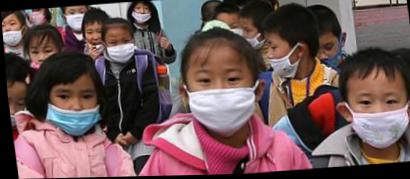OK: (184, 62, 259, 141), (347, 85, 409, 153), (106, 32, 137, 62), (66, 6, 90, 31)
WRONG: (48, 78, 102, 139), (264, 35, 303, 80), (309, 40, 344, 72), (28, 42, 61, 73), (83, 22, 111, 54), (7, 91, 30, 128), (242, 20, 267, 52), (2, 19, 27, 48), (132, 4, 153, 25)
